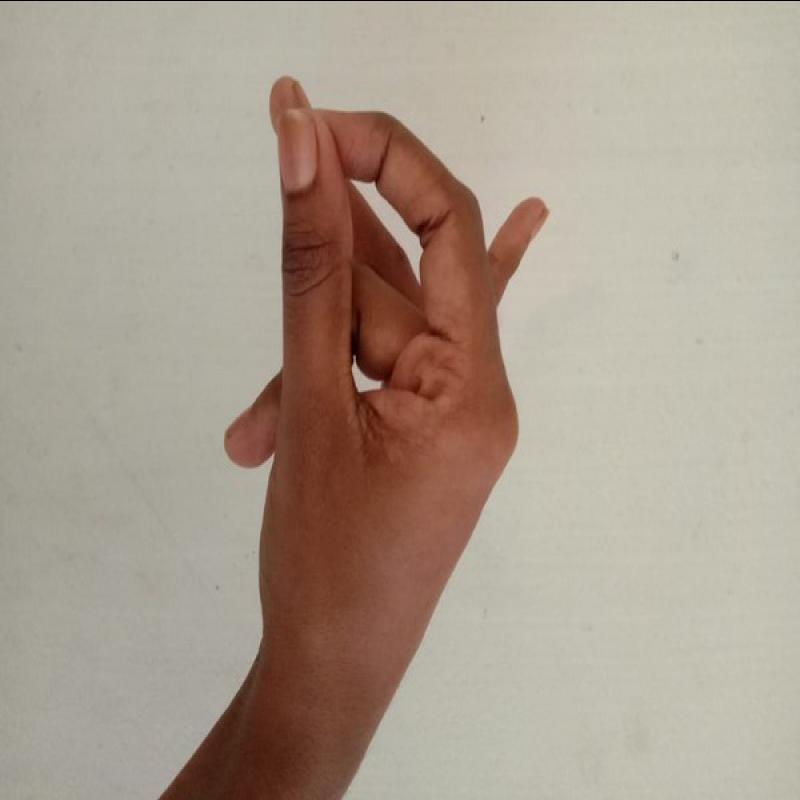Katakam: (216, 62, 557, 609)
